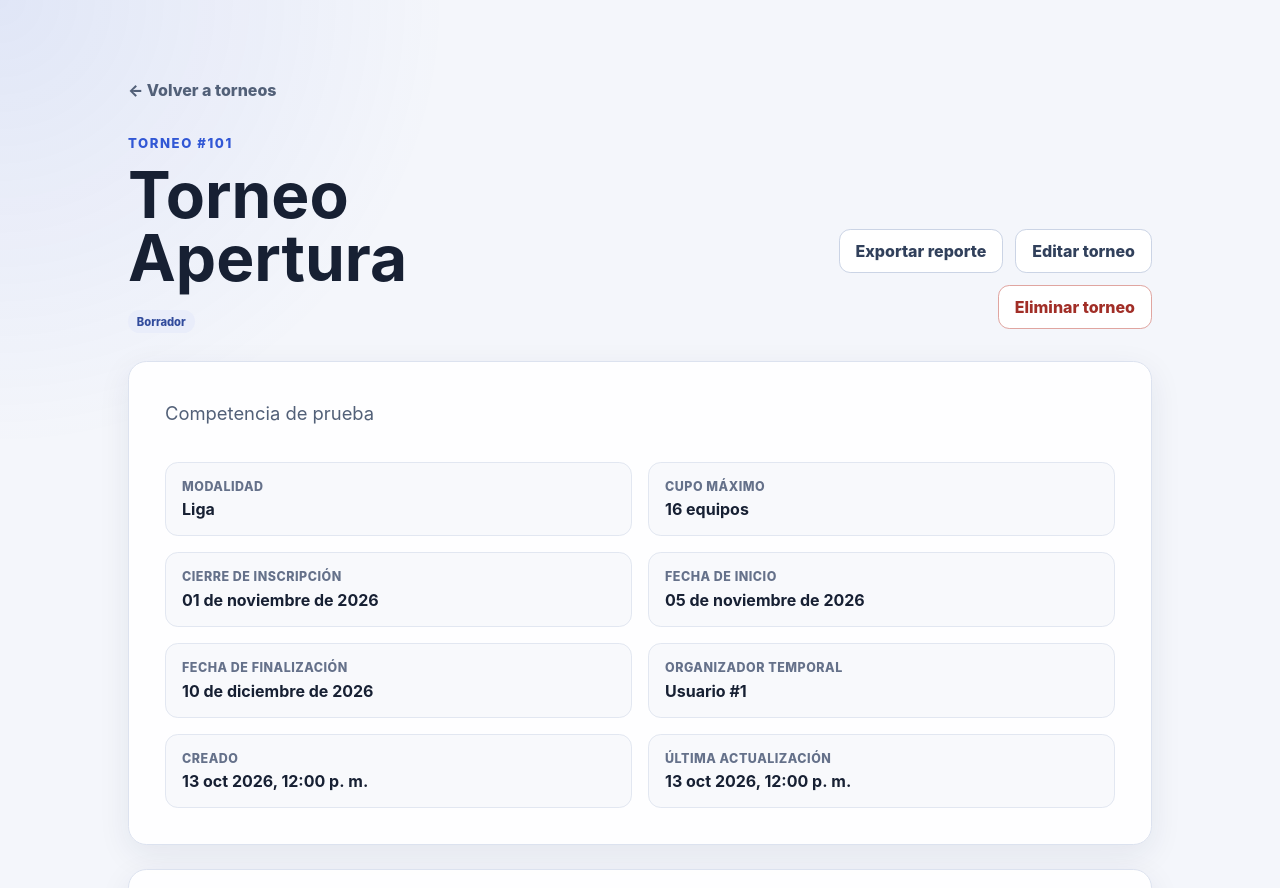
it: TournamentDetailPage › solicita confirmación y elimina un torneo en borrador
Step 1. Click the button "Eliminar torneo" → click(1075, 307), box x1=998 y1=285 x2=1152 y2=330
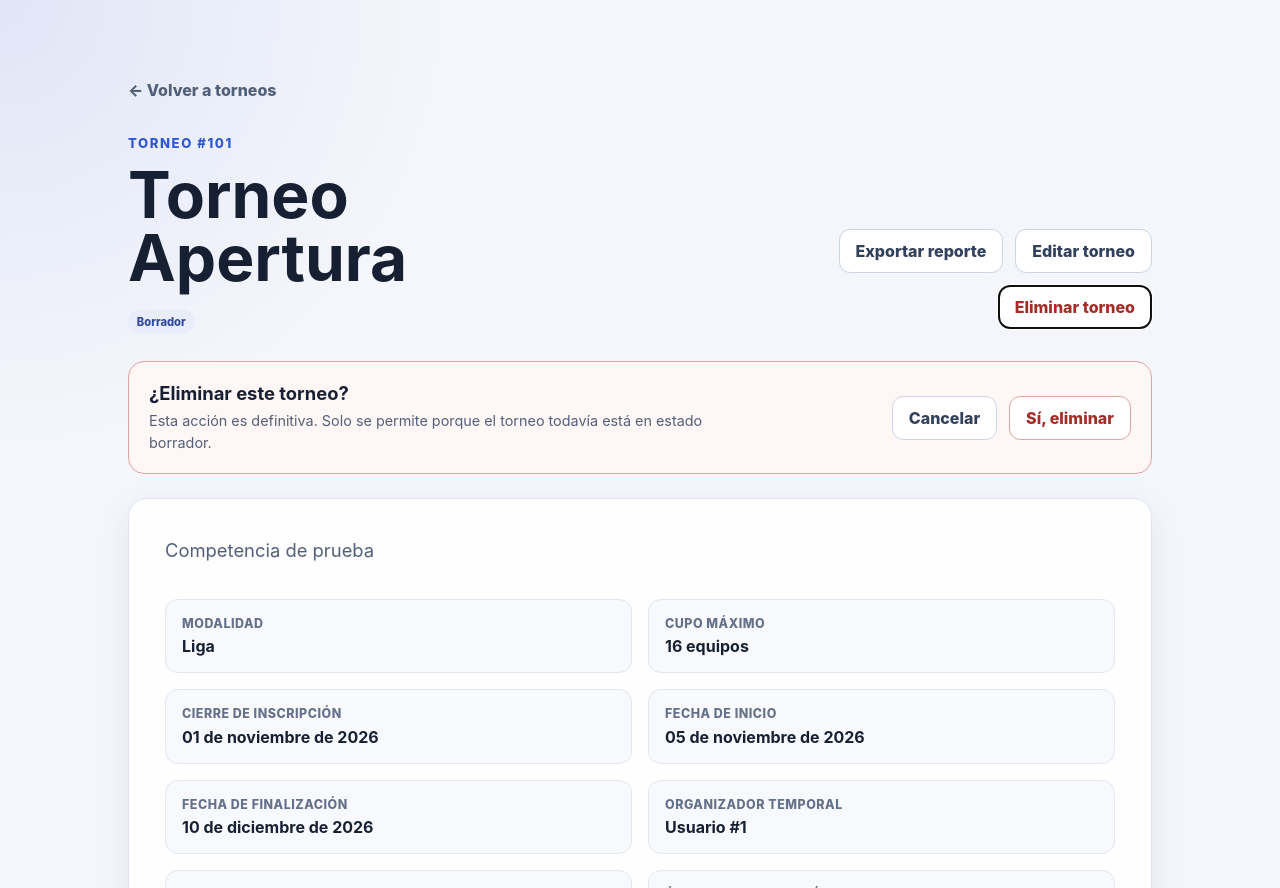
Now the heading "¿Eliminar este torneo?" is shown, box x1=149 y1=382 x2=349 y2=404
Step 2. Click the button "Sí, eliminar" → click(1070, 418), box x1=1009 y1=396 x2=1131 y2=440
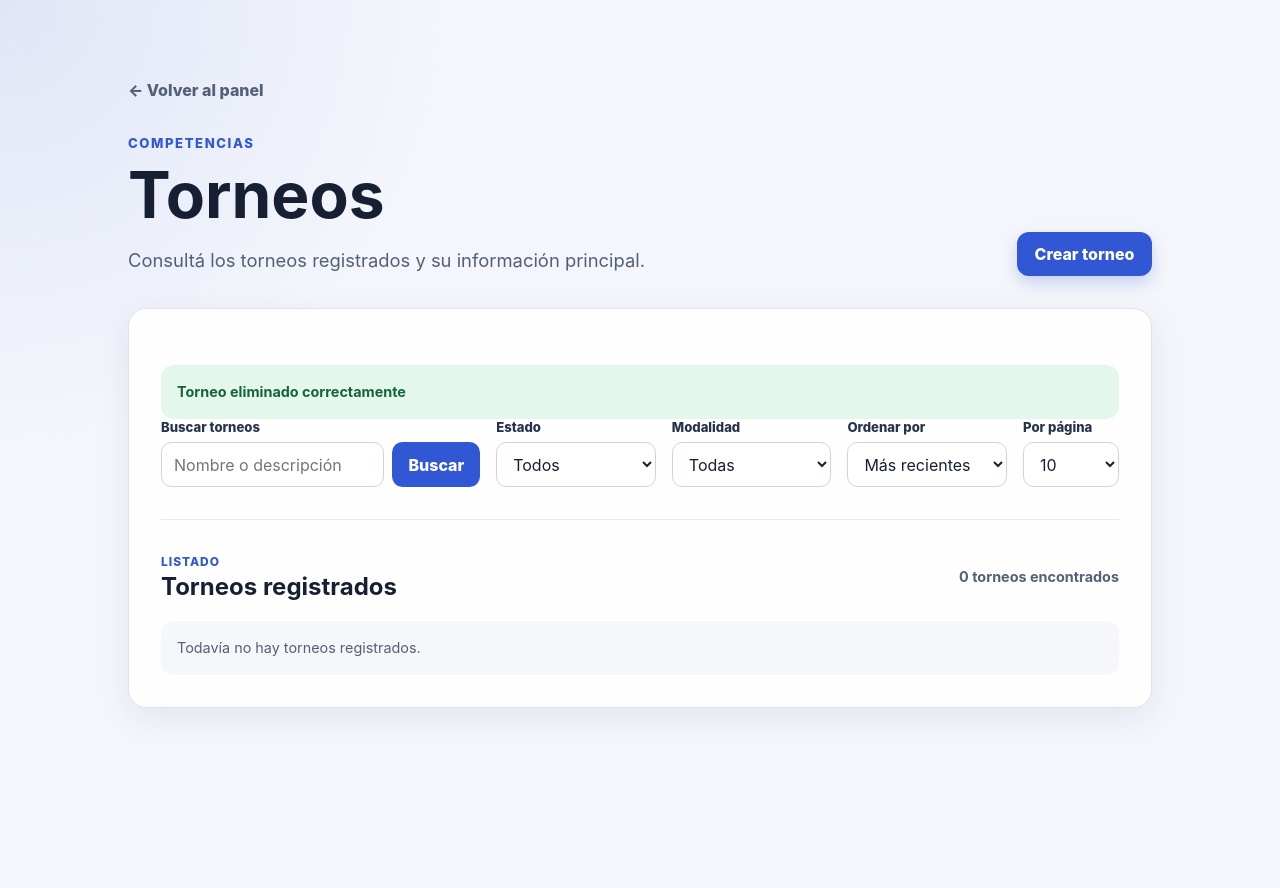
Now the text "Torneo eliminado correctamente" is shown, box x1=177 y1=383 x2=406 y2=400
